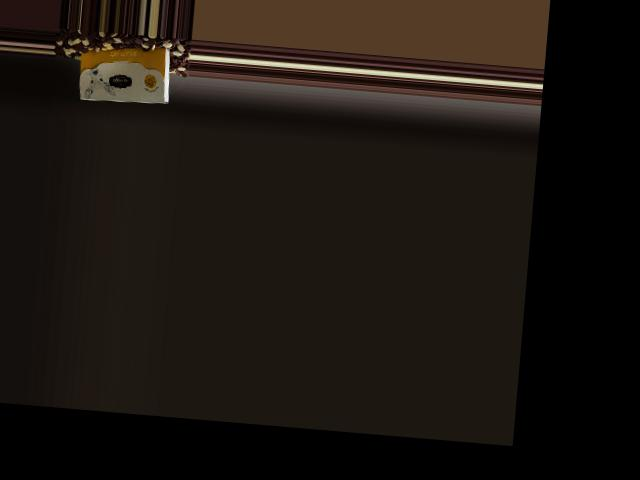chocolate: (71, 37, 177, 110)
